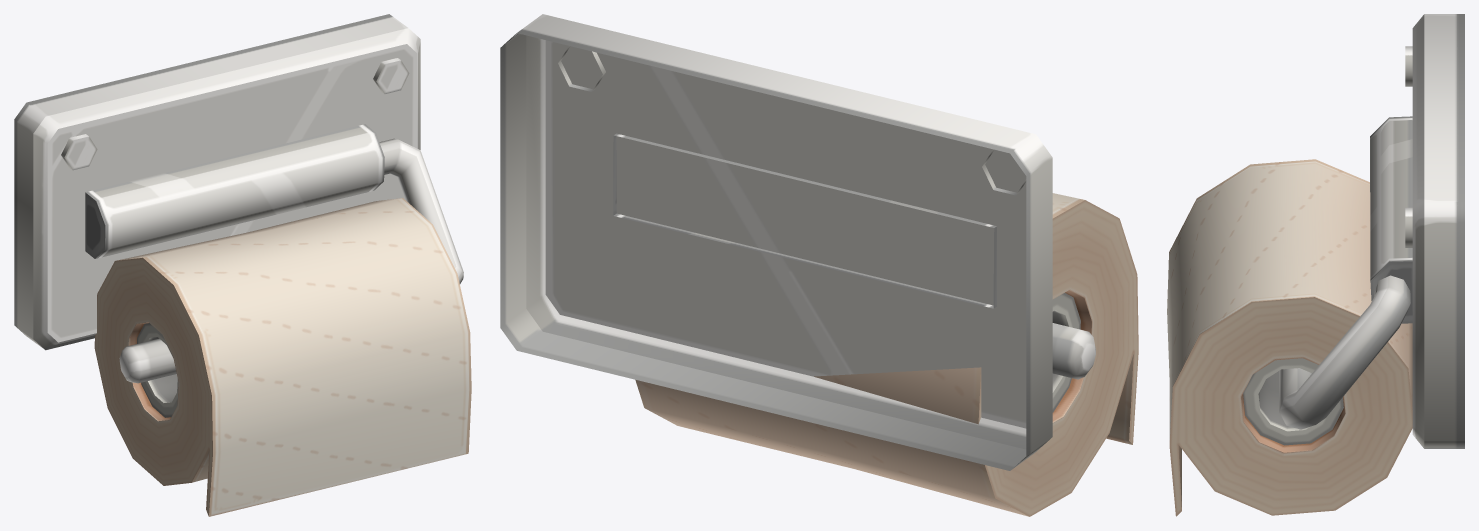
Rendered from bathroom_toiletpaper_holder.fbx.
3 views of the same model, side by side, from view 1: azimuth 30°, elevation 25°; view 2: azimuth 150°, elevation 25°; view 3: azimuth 270°, elevation 25° (orthographic). The views are drawn at different scales.
Visible parts, largest first — view 1: bathroom_toiletpaper_holder; view 2: bathroom_toiletpaper_holder; view 3: bathroom_toiletpaper_holder.
Part boxes in pixels (x1,y1,x2,y2): bathroom_toiletpaper_holder: (14, 14, 471, 516); bathroom_toiletpaper_holder: (500, 14, 1138, 516); bathroom_toiletpaper_holder: (1167, 14, 1464, 516).
Size of the model in its own units: 28.12 by 22.75 by 17.7.
